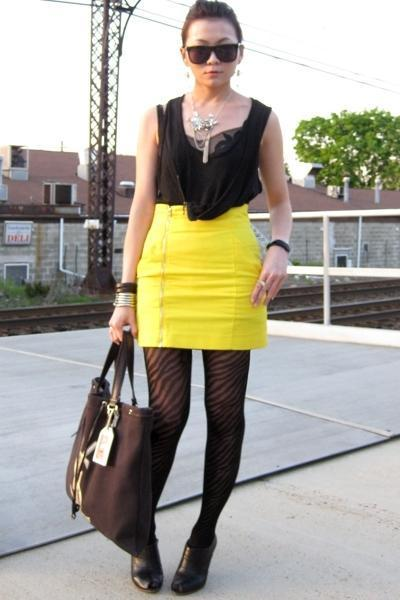bag: (58, 328, 165, 555)
shirt: (153, 95, 271, 220)
shoe: (130, 527, 216, 594)
skirt: (137, 204, 275, 351)
sunglass: (187, 38, 242, 64)
